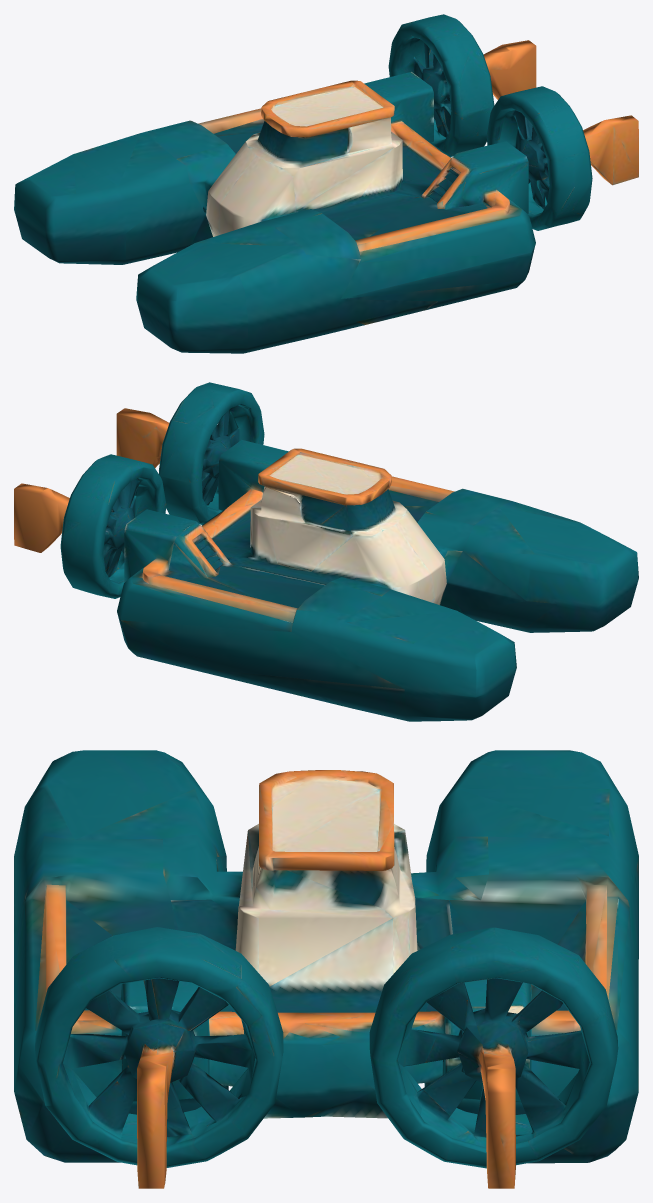
File: enemy-ship-b-512.glb
The picture shows the model from 3 angles, top to bottom: view 1: azimuth 30°, elevation 25°; view 2: azimuth 150°, elevation 25°; view 3: azimuth 270°, elevation 25°; orthographic projection. The views are drawn at different scales.
Size of the model in its own units: 1.9 by 0.5831 by 1.23.
1 material, 1 textured.
